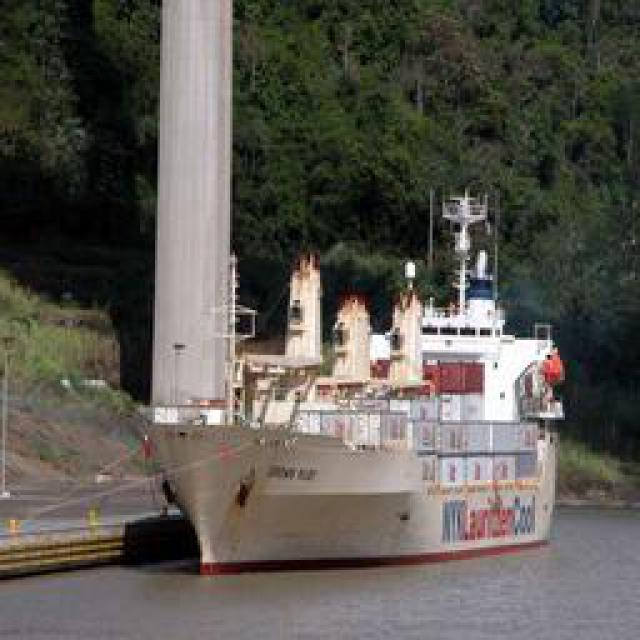Ship: (144, 185, 567, 573)
